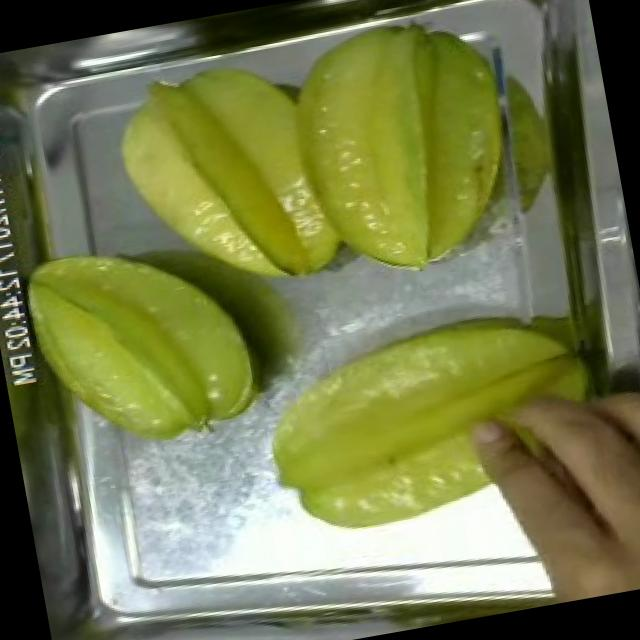fruit: (238, 277, 630, 565), (95, 28, 400, 320), (273, 0, 546, 298), (0, 206, 281, 473)
